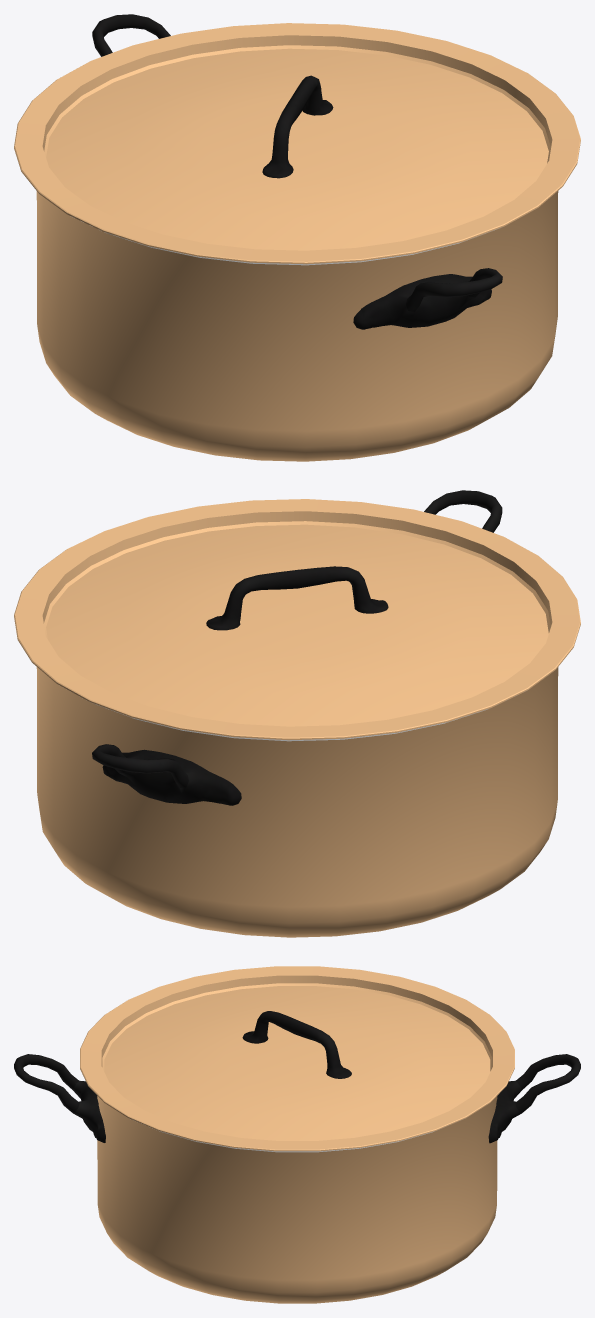
Rendered from Prop_Kitchen_Pan_x2.fbx.
3 views of the same model, one above another, from view 1: azimuth 30°, elevation 25°; view 2: azimuth 150°, elevation 25°; view 3: azimuth 270°, elevation 25° (orthographic). The views are drawn at different scales.
Parts seen in each view (by area): view 1: Prop_Kitchen_Pan_x2; view 2: Prop_Kitchen_Pan_x2; view 3: Prop_Kitchen_Pan_x2.
Boxes of the visible parts, x1=… form: Prop_Kitchen_Pan_x2: x1=14, y1=14, x2=580, y2=461; Prop_Kitchen_Pan_x2: x1=14, y1=490, x2=580, y2=937; Prop_Kitchen_Pan_x2: x1=14, y1=966, x2=580, y2=1303.
Bounding box in the file's own units: 18.59 × 9.93 × 24.22.
